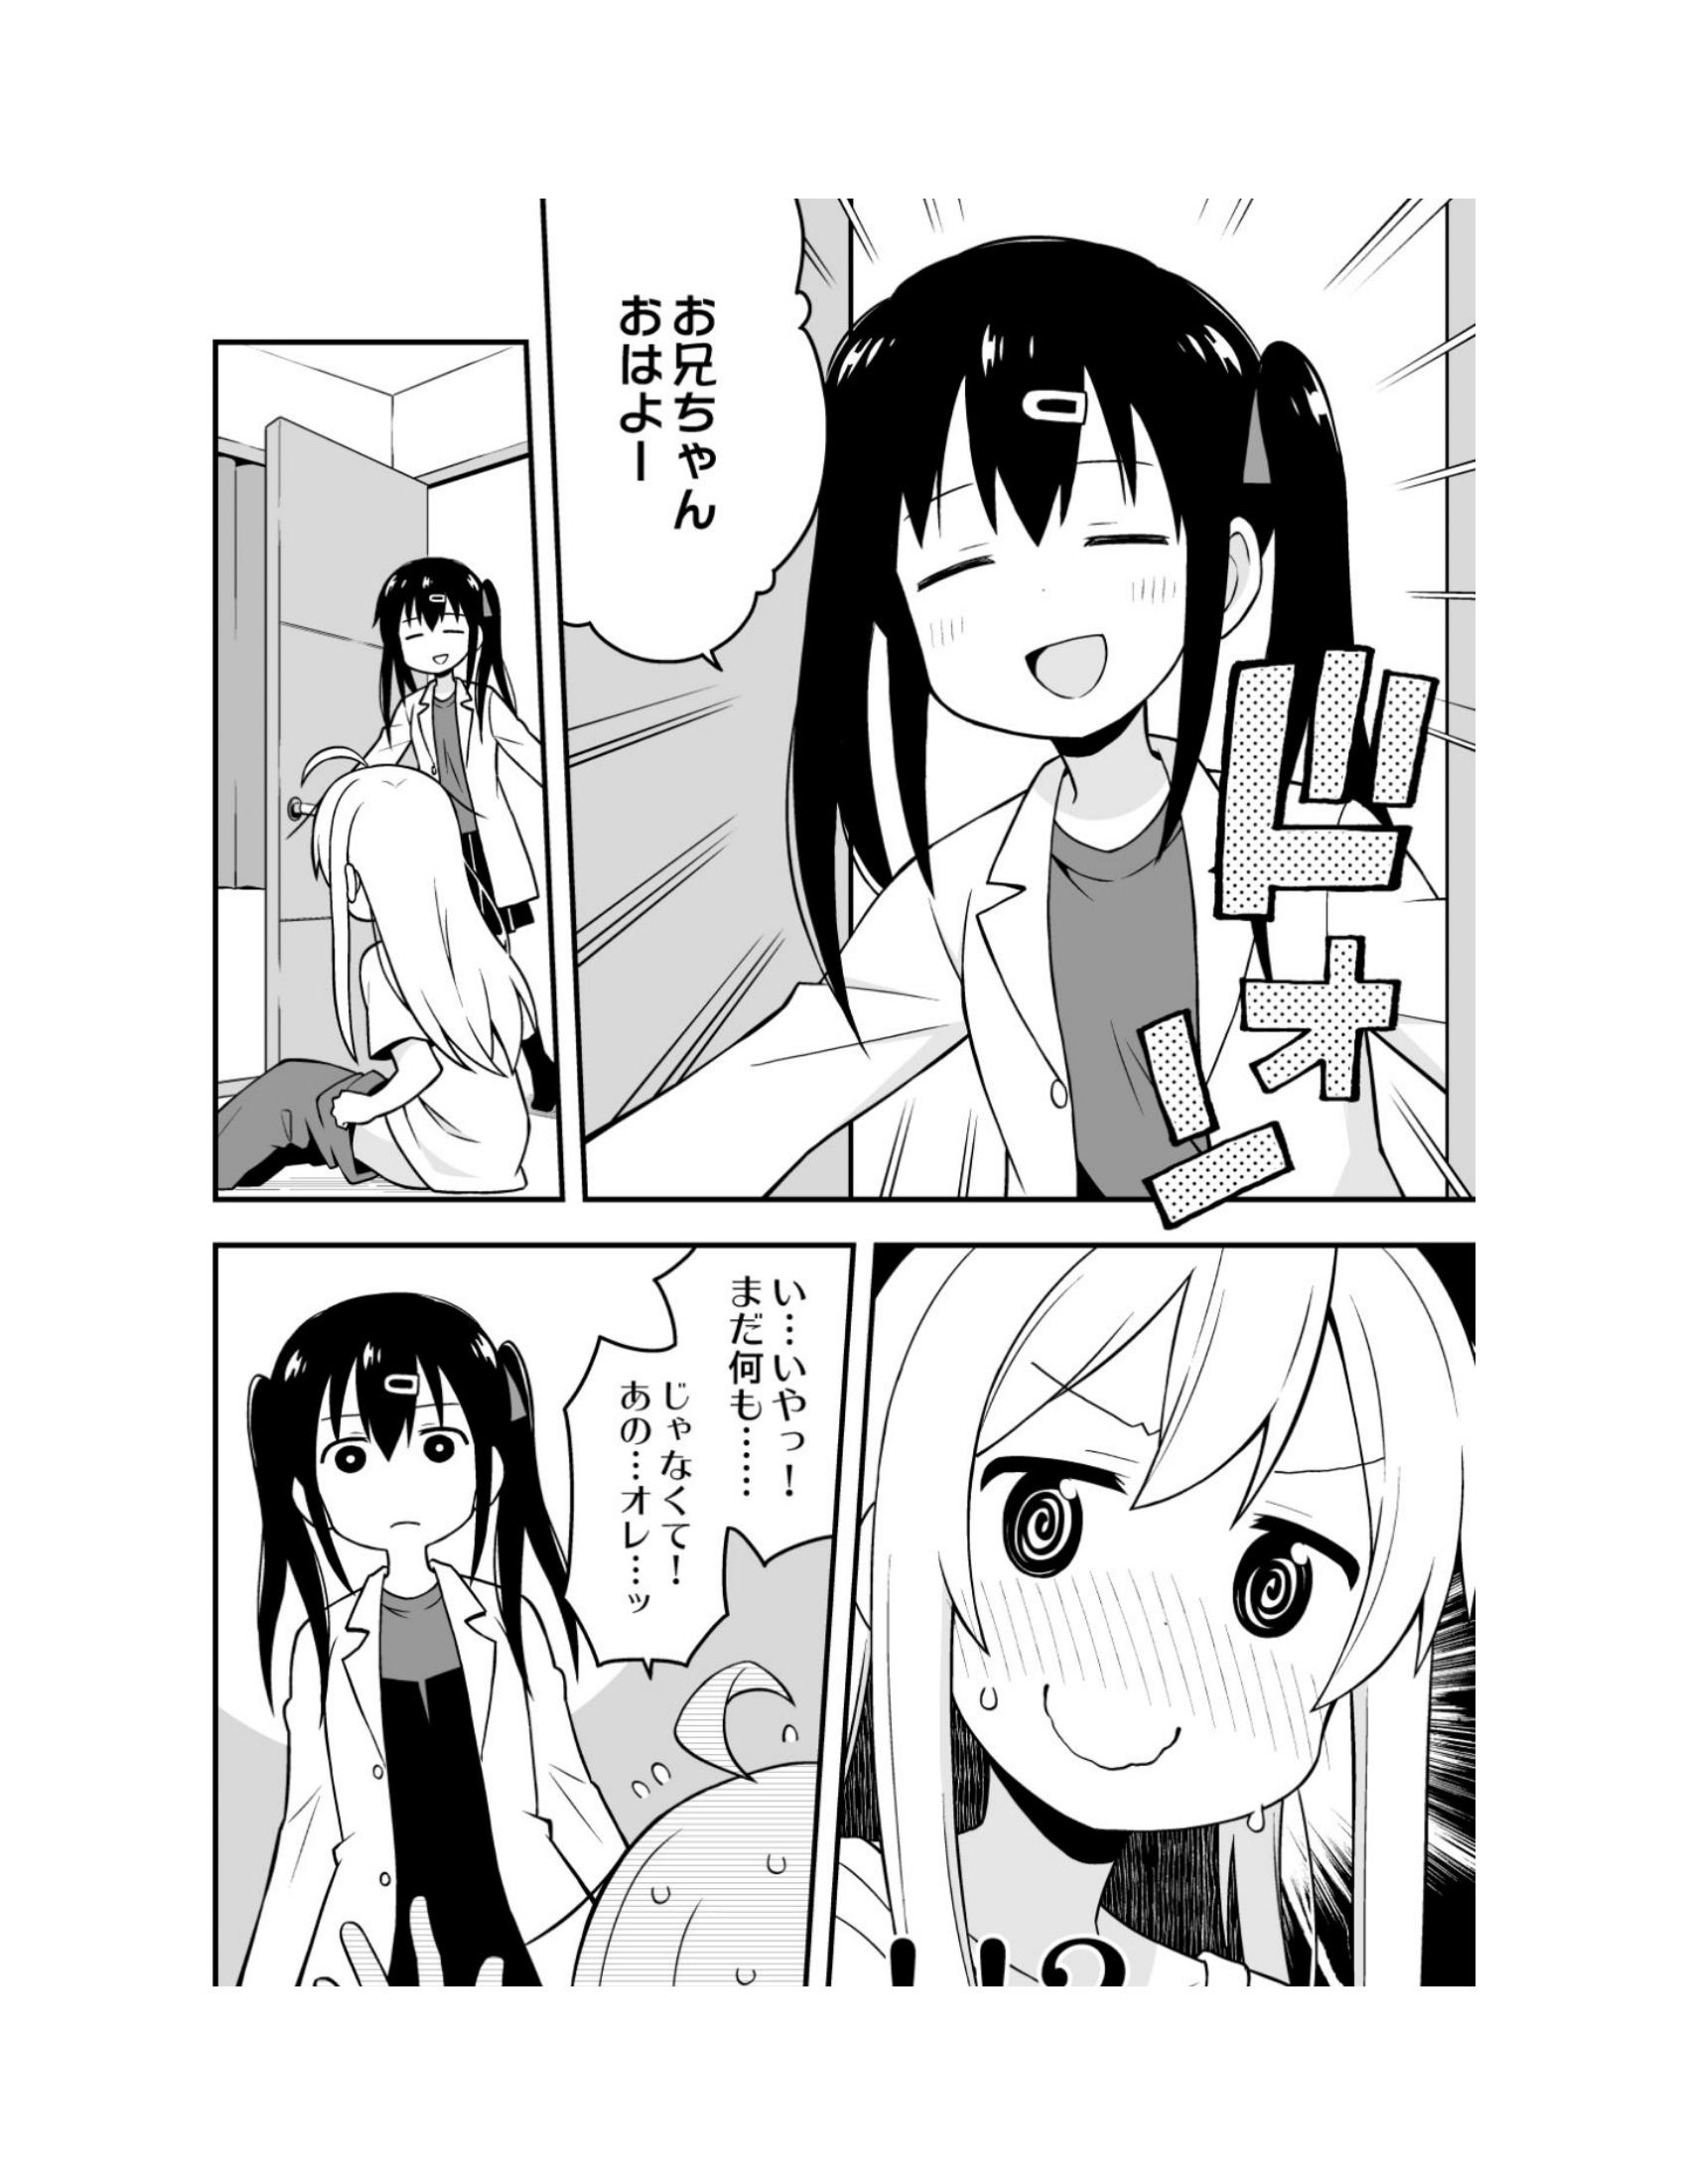a: (557, 184, 867, 690), (548, 1239, 874, 1656)
